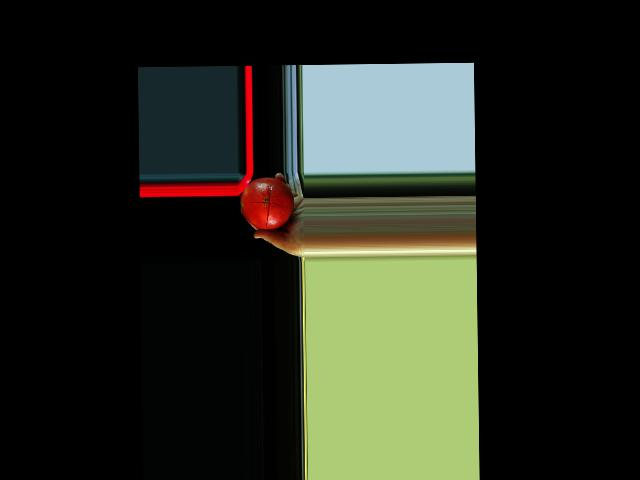tomato: (240, 176, 294, 230)
